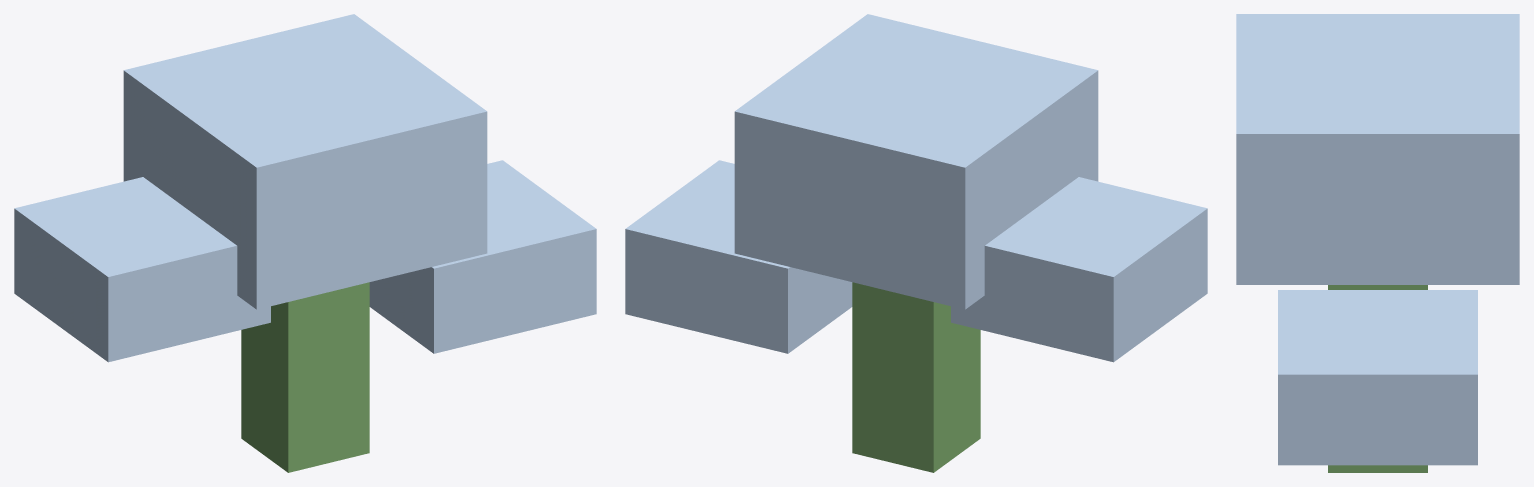
Rendered from Prop_DS_Herb_LatencyLily_S1.glb.
3 renders of one model, left to right at view 1: azimuth 30°, elevation 25°; view 2: azimuth 150°, elevation 25°; view 3: azimuth 270°, elevation 25°, orthographic. The views are drawn at different scales.
Visible parts, largest first — view 1: Cube.003, Cube.002, Cube.001, Cube; view 2: Cube.003, Cube.002, Cube.001, Cube; view 3: Cube.003, Cube.001, Cube.
Part boxes in pixels (x1,y1,x2,y2): Cube.003: (123, 14, 487, 309); Cube.002: (14, 177, 270, 362); Cube.001: (369, 160, 596, 353); Cube: (241, 282, 369, 472); Cube.003: (734, 14, 1098, 309); Cube.002: (951, 177, 1207, 362); Cube.001: (625, 160, 852, 353); Cube: (852, 282, 980, 472); Cube.003: (1236, 14, 1519, 284); Cube.001: (1278, 290, 1477, 465); Cube: (1328, 285, 1427, 472).
Bounding box in the file's own units: 0.36 × 0.25 × 0.17.
